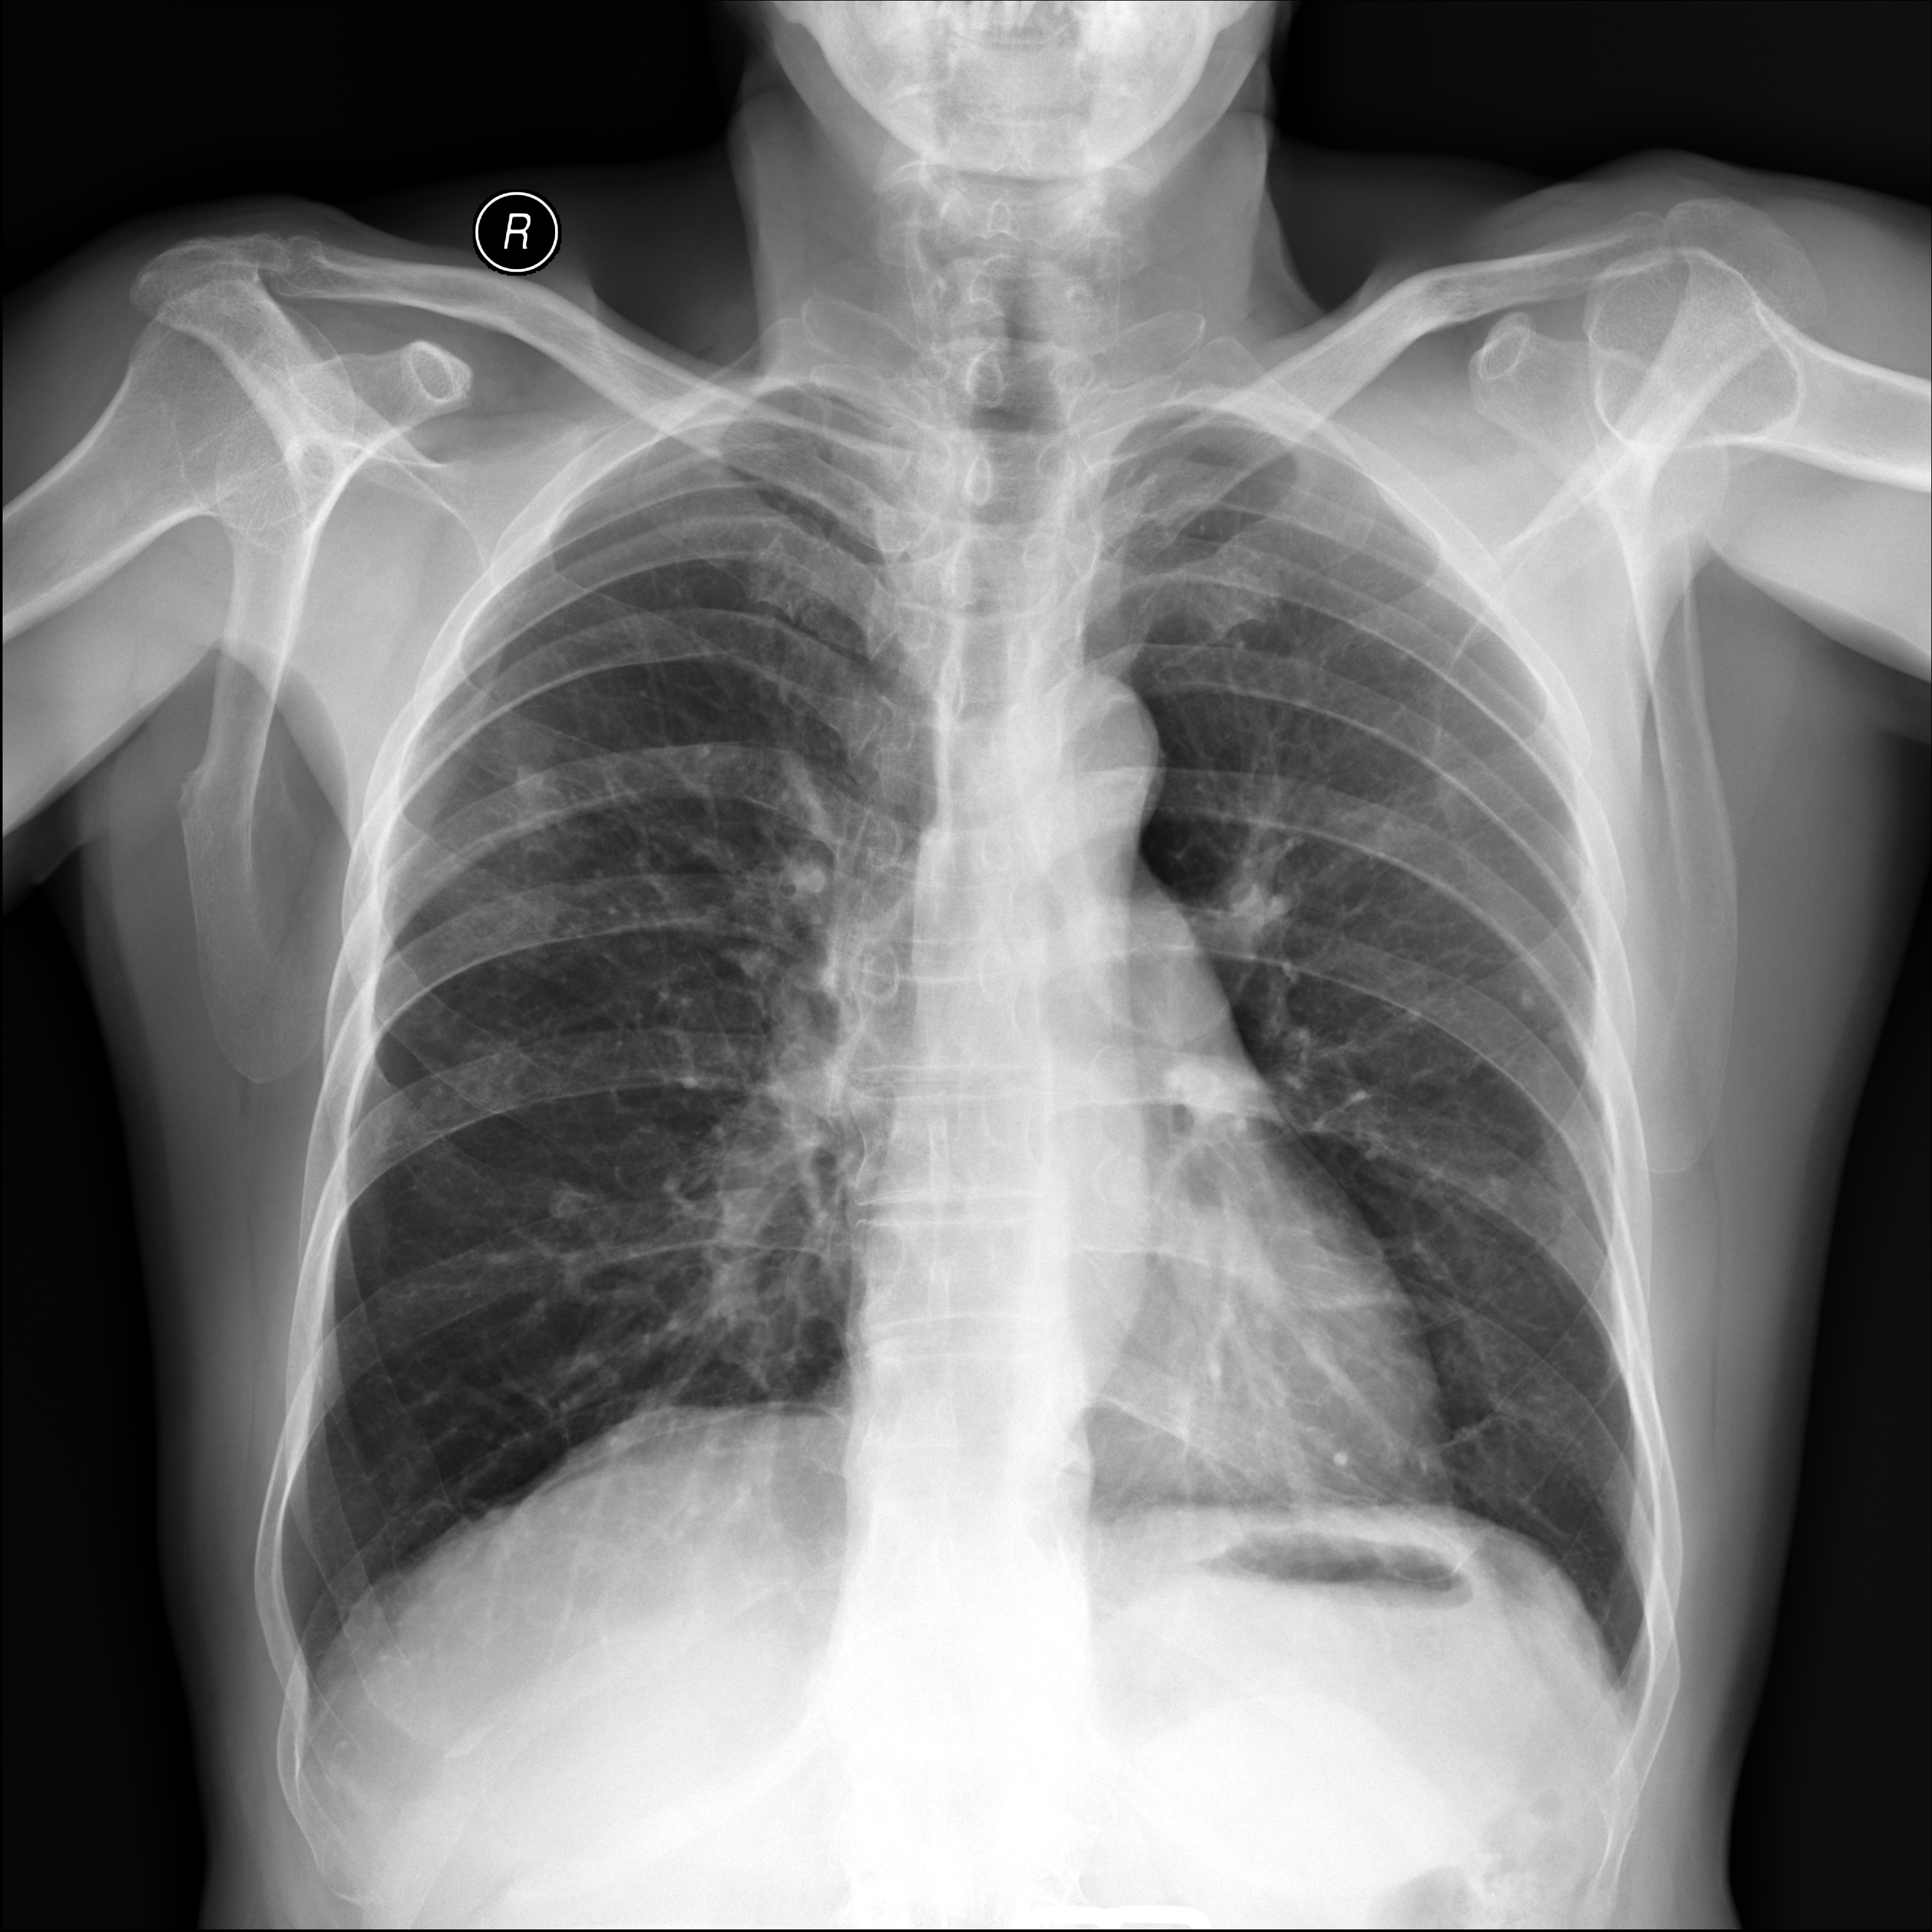nodule: (471, 741, 602, 874), (1495, 964, 1560, 1035)
